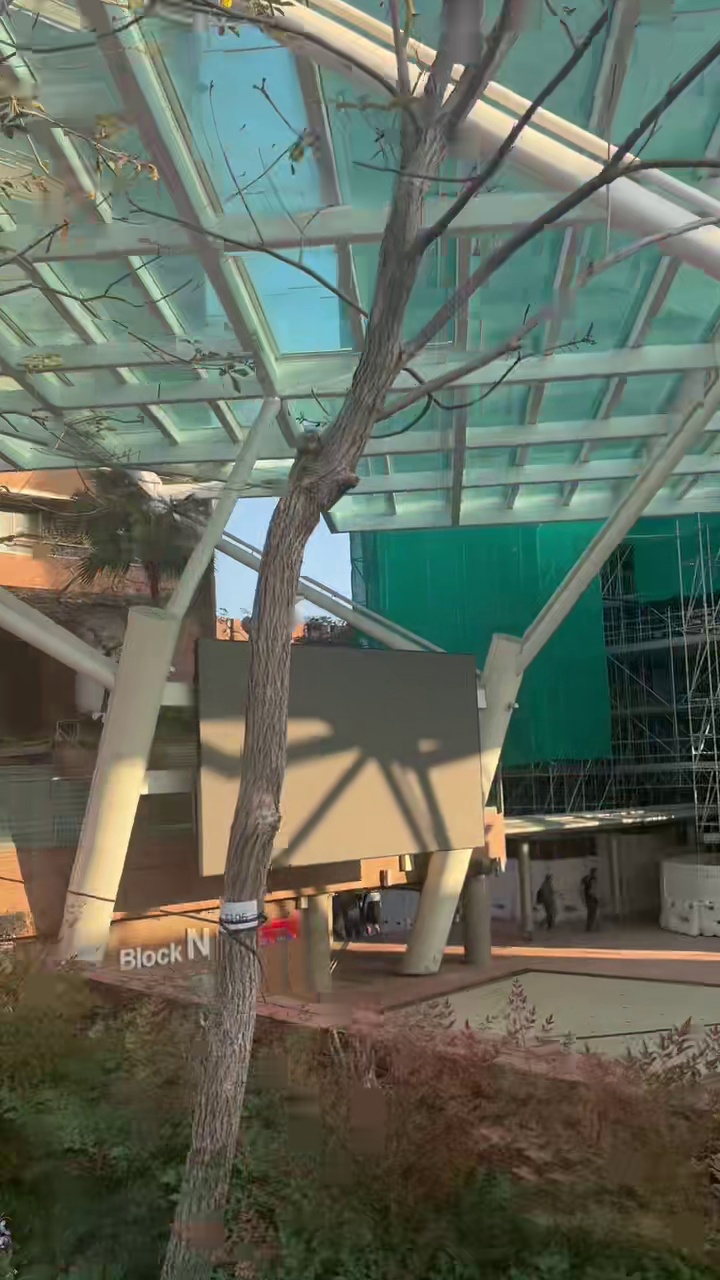Tabebuia chrysantha: (223, 0, 719, 916), (161, 923, 258, 1279)
